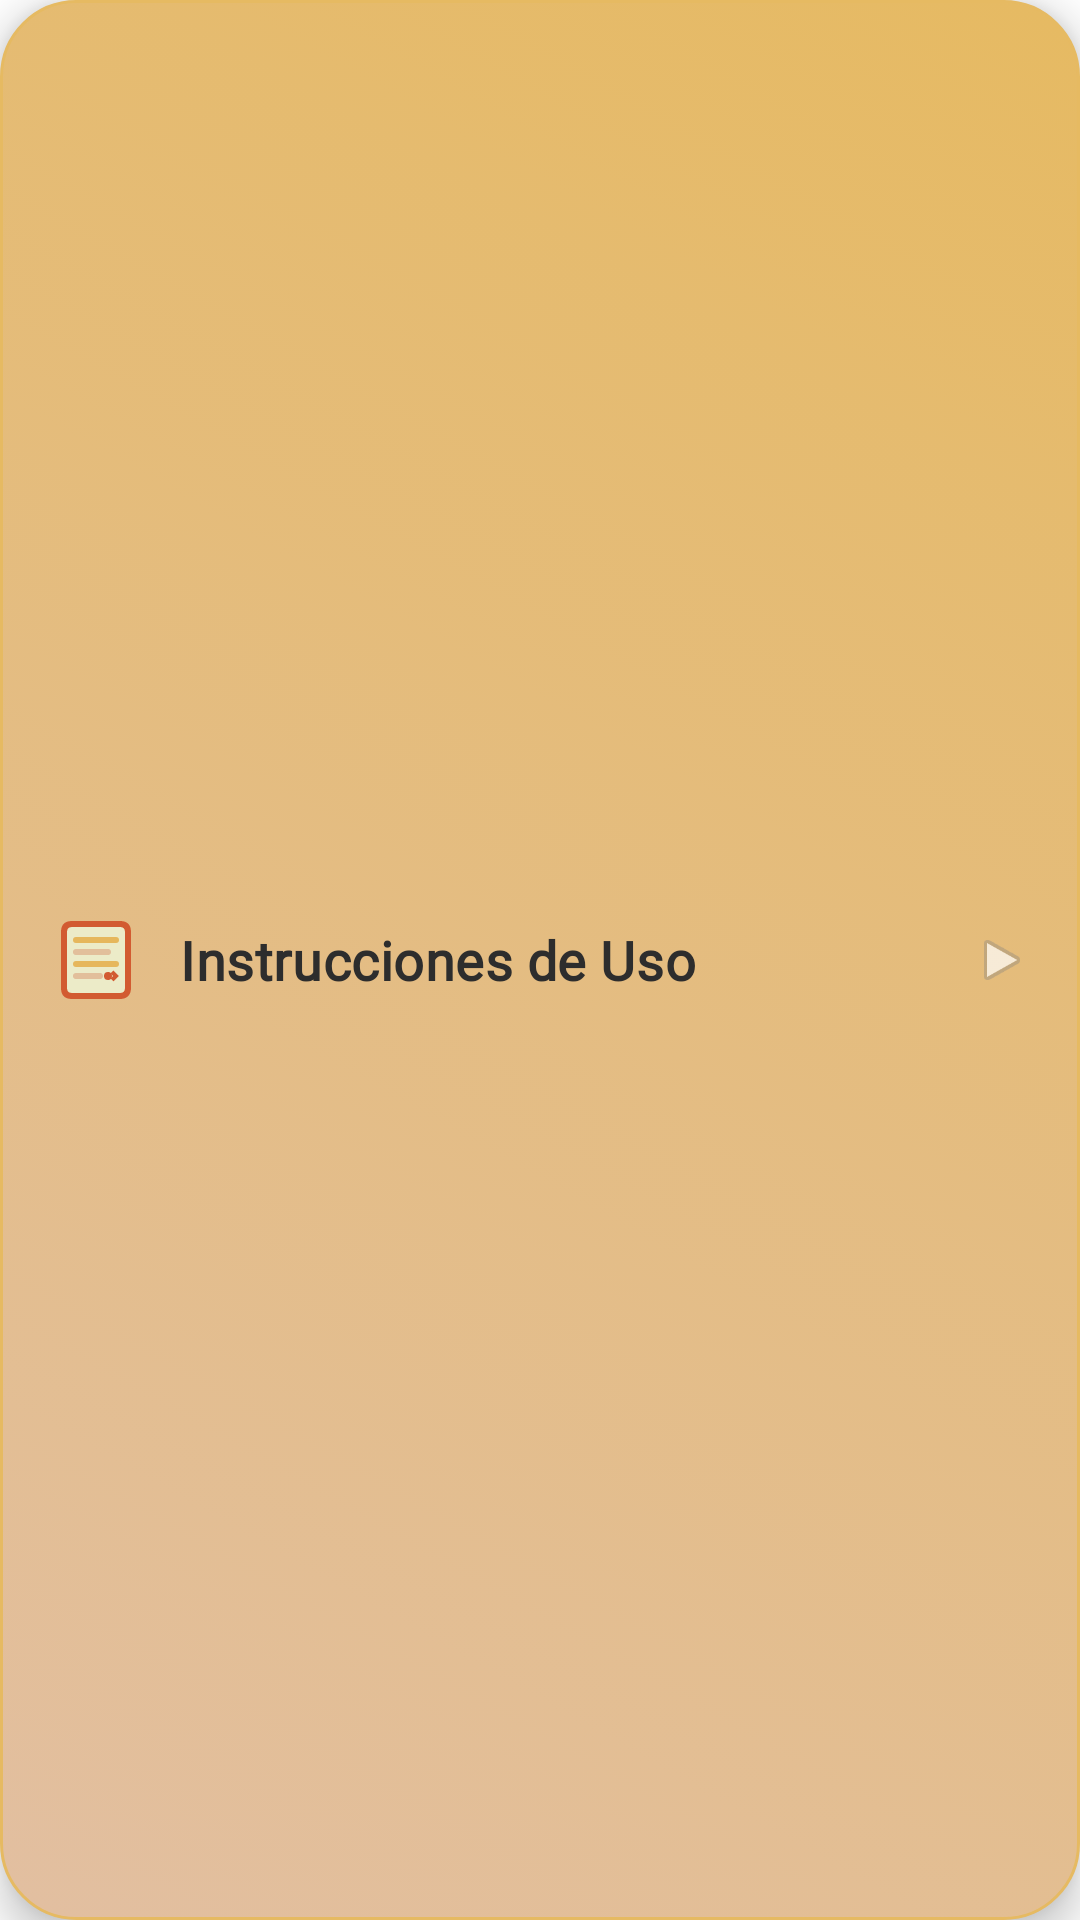

Screen size 1080px x 1920px. Icon name, then its center in pixels as [x,y]:
Ir: [1002,960]
